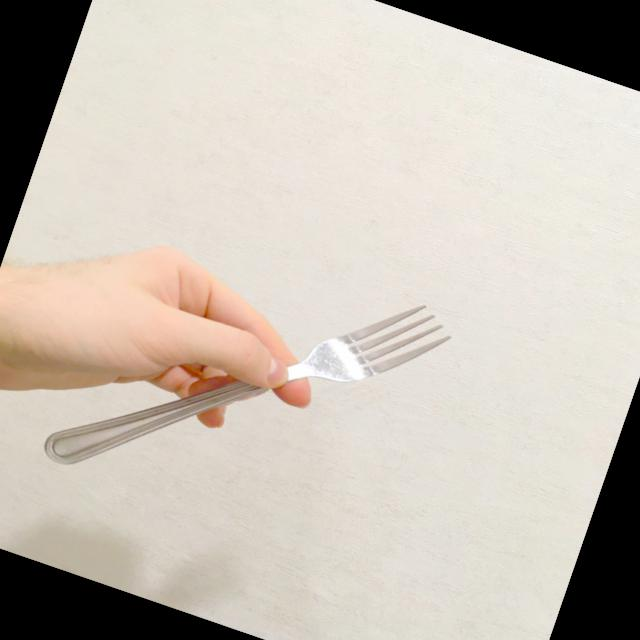fork: (38, 202, 464, 574)
